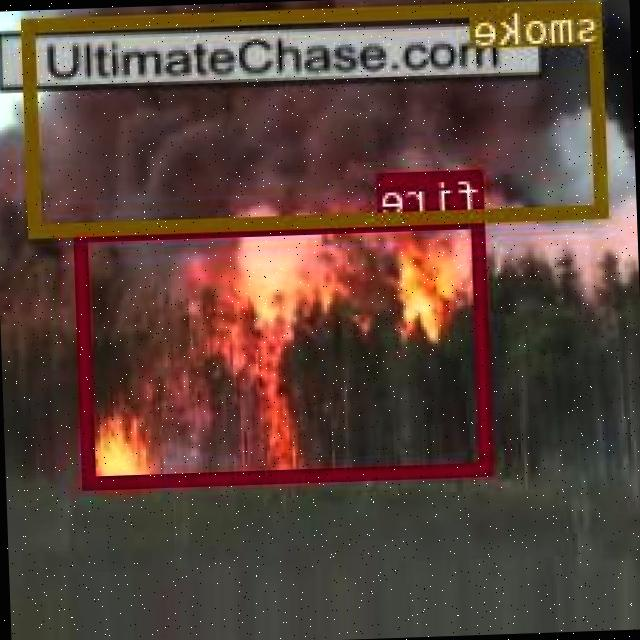fire: (76, 214, 493, 486)
smoke: (25, 0, 609, 235)
